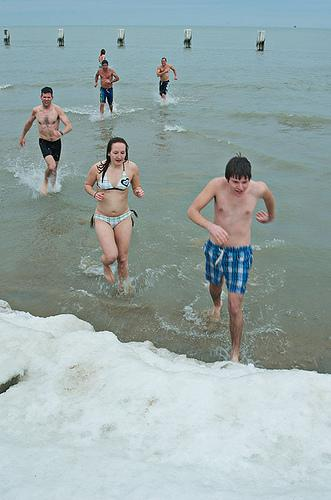swimmer: (184, 152, 278, 356), (87, 136, 142, 288), (21, 84, 72, 201), (94, 60, 121, 116), (157, 53, 177, 104)
